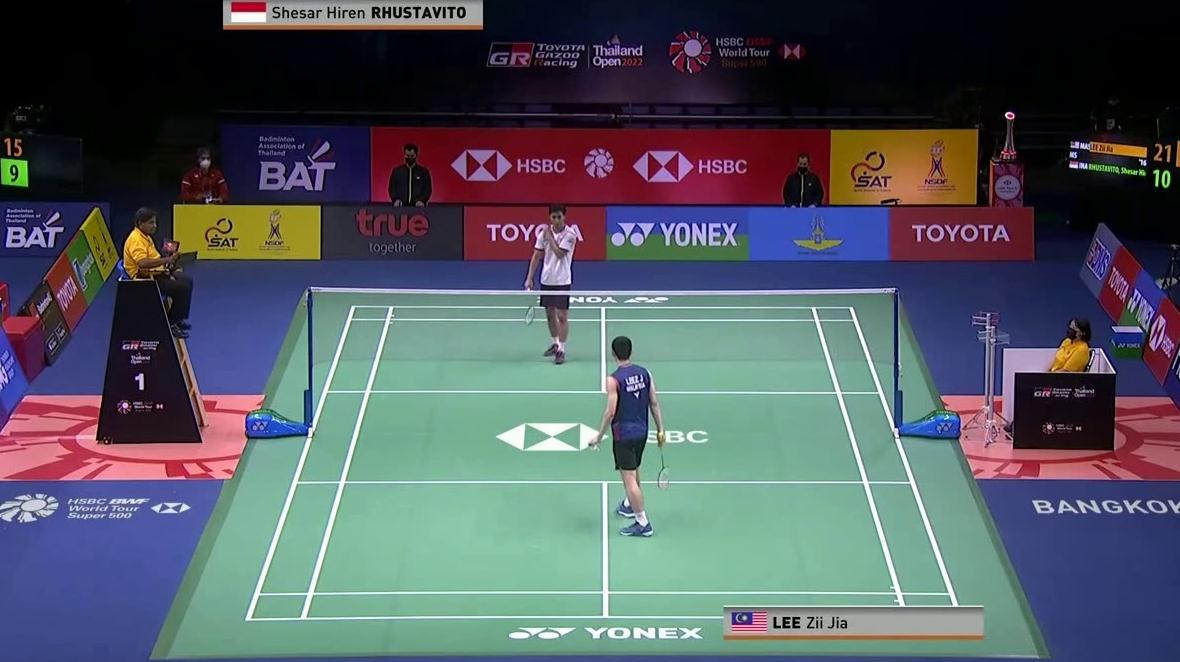racket: (654, 432, 670, 490), (523, 283, 535, 327)
shuttle: (587, 442, 600, 453)
